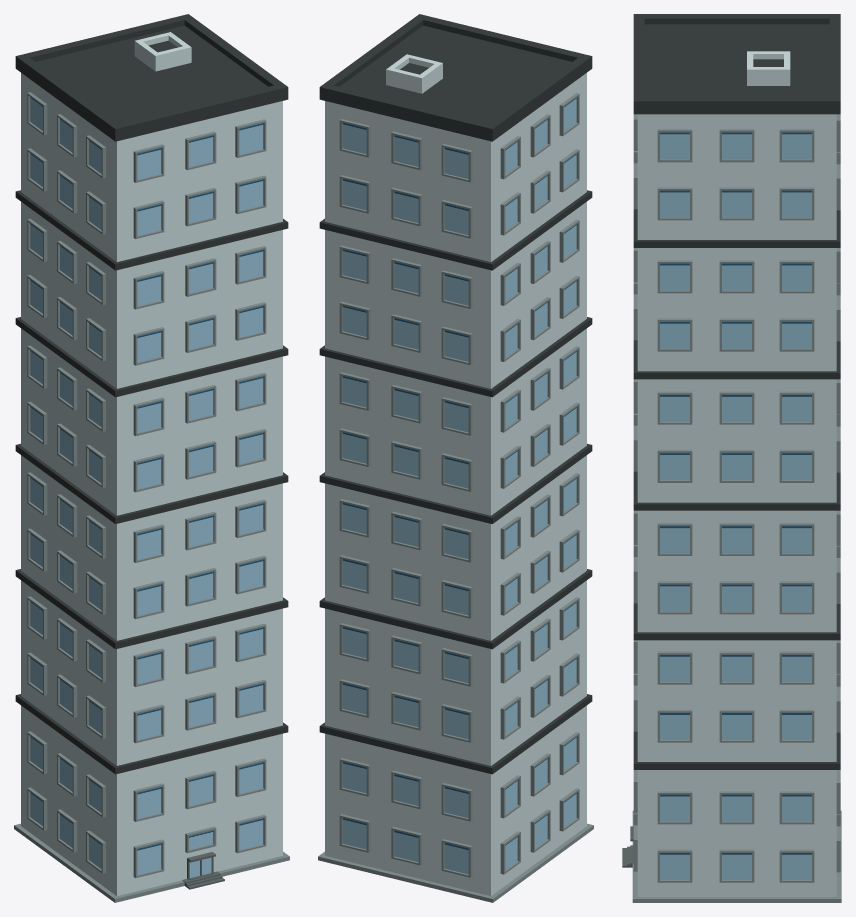
The model's file is White Stack Highest.fbx.
The picture shows the model from 3 angles, left to right: view 1: azimuth 30°, elevation 25°; view 2: azimuth 150°, elevation 25°; view 3: azimuth 270°, elevation 25°; orthographic projection. The views are drawn at different scales.
Visible parts, largest first — view 1: White Stack Highest; view 2: White Stack Highest; view 3: White Stack Highest.
Boxes of the visible parts, <box> form: White Stack Highest: <box>14,14,289,902</box>; White Stack Highest: <box>318,14,593,902</box>; White Stack Highest: <box>622,14,841,902</box>.
Bounding box in the file's own units: 6.65 × 28.45 × 6.98.
